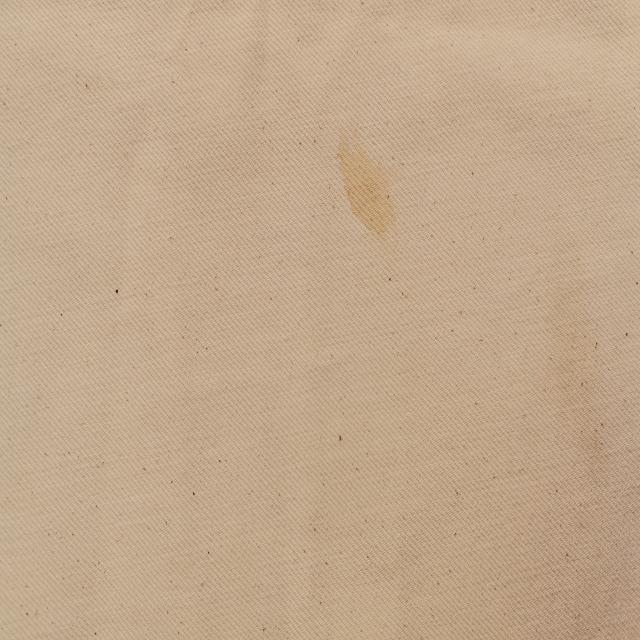taaaches: (334, 126, 404, 248)
